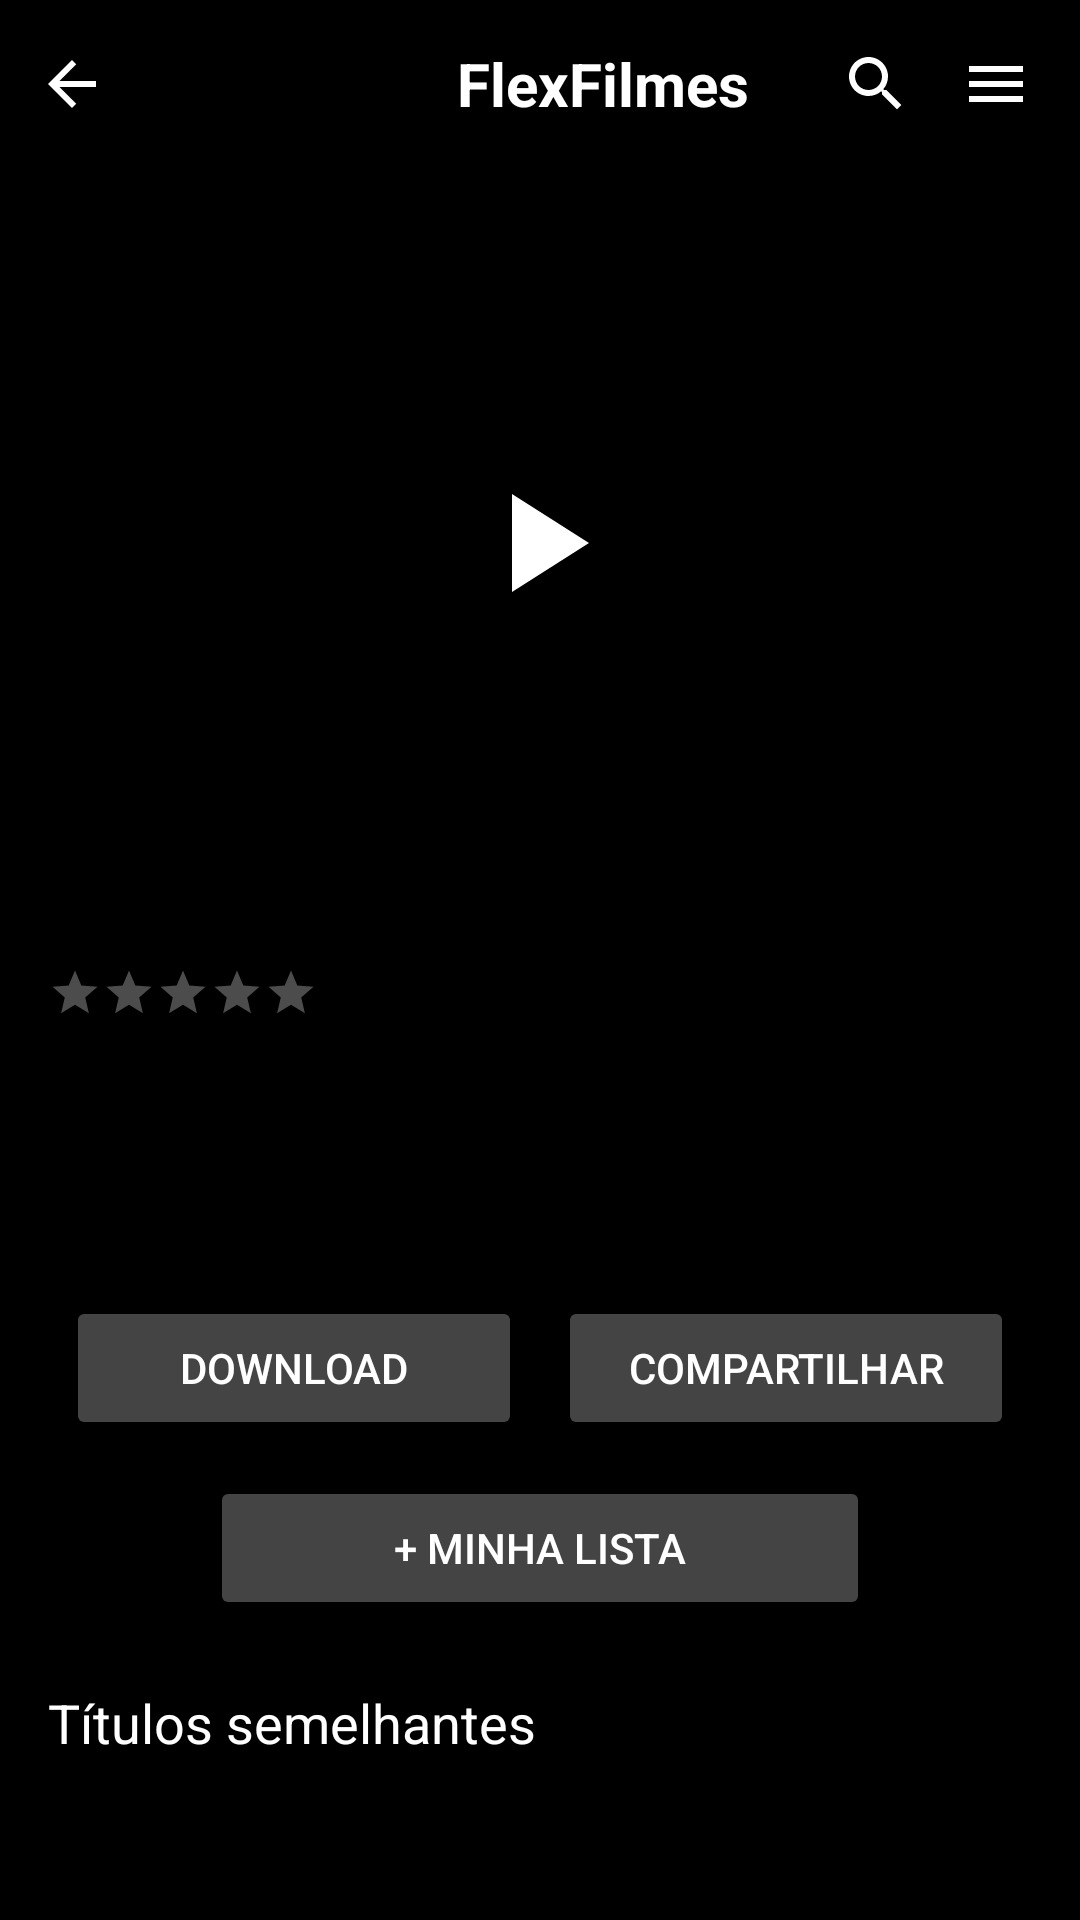

Icon click points for this 1080×1920 phone screenshot, format [x,y]:
Avaliação 1 estrela: [75,992]
Avaliação 2 estrelas: [129,992]
Avaliação 3 estrelas: [183,992]
Avaliação 4 estrelas: [237,992]
Avaliação 5 estrelas: [291,992]
Menu: [996,84]
Pesquisar: [875,83]
Voltar: [72,84]
